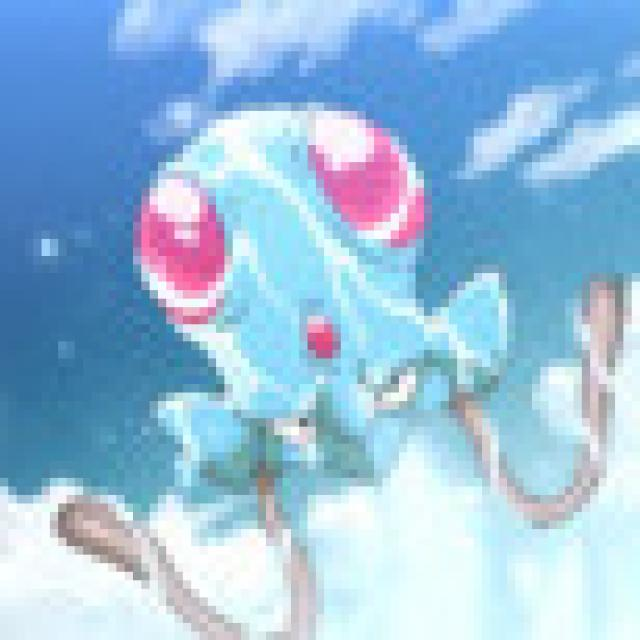Tentacool: (114, 106, 522, 562)
